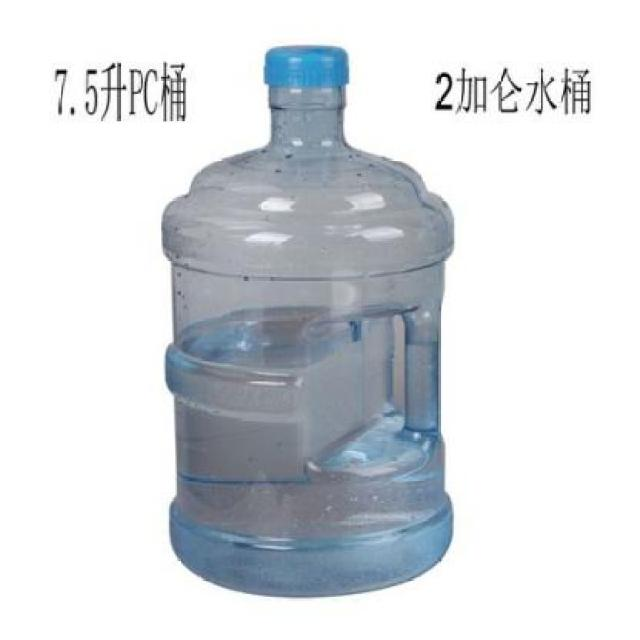coolerbottle: (159, 40, 456, 606)
